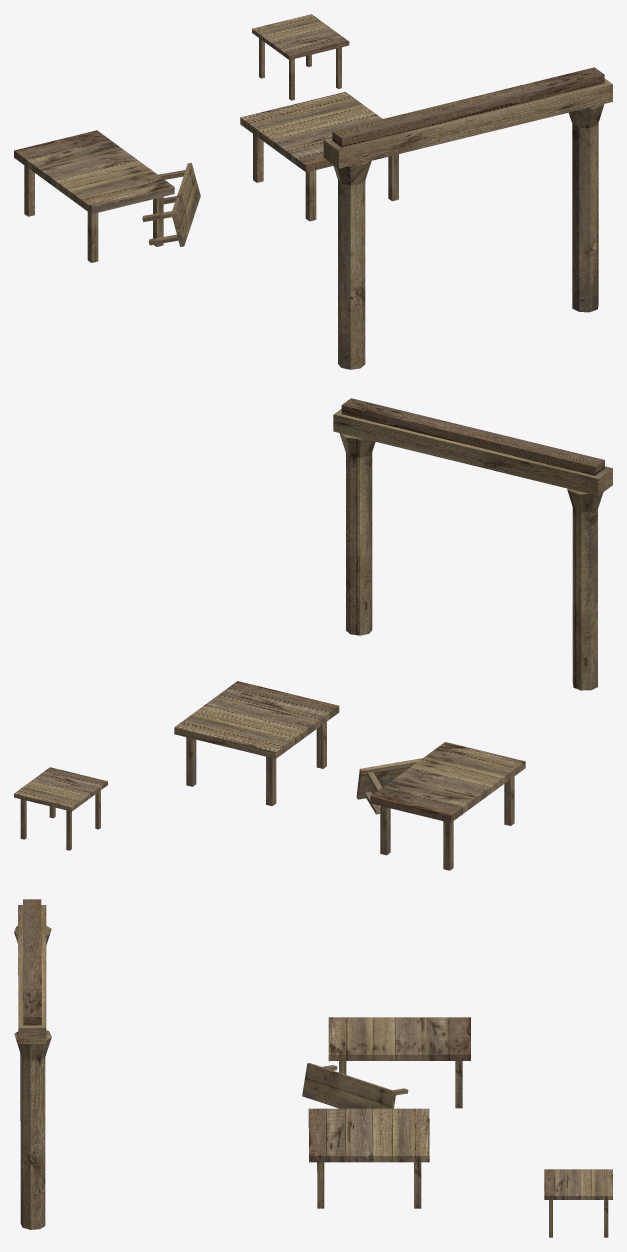
The model's file is celt_market1_wood.dae.
The picture shows the model from 3 angles, top to bottom: view 1: azimuth 30°, elevation 25°; view 2: azimuth 150°, elevation 25°; view 3: azimuth 270°, elevation 25°; orthographic projection. The views are drawn at different scales.
Parts seen in each view (by area): view 1: default17-Pivot; view 2: default17-Pivot; view 3: default17-Pivot.
Boxes of the visible parts, x1=… form: default17-Pivot: x1=14, y1=14, x2=612, y2=369; default17-Pivot: x1=14, y1=398, x2=612, y2=870; default17-Pivot: x1=14, y1=899, x2=612, y2=1237.
Bounding box in the file's own units: 13.3 × 20.02 × 7.89.
